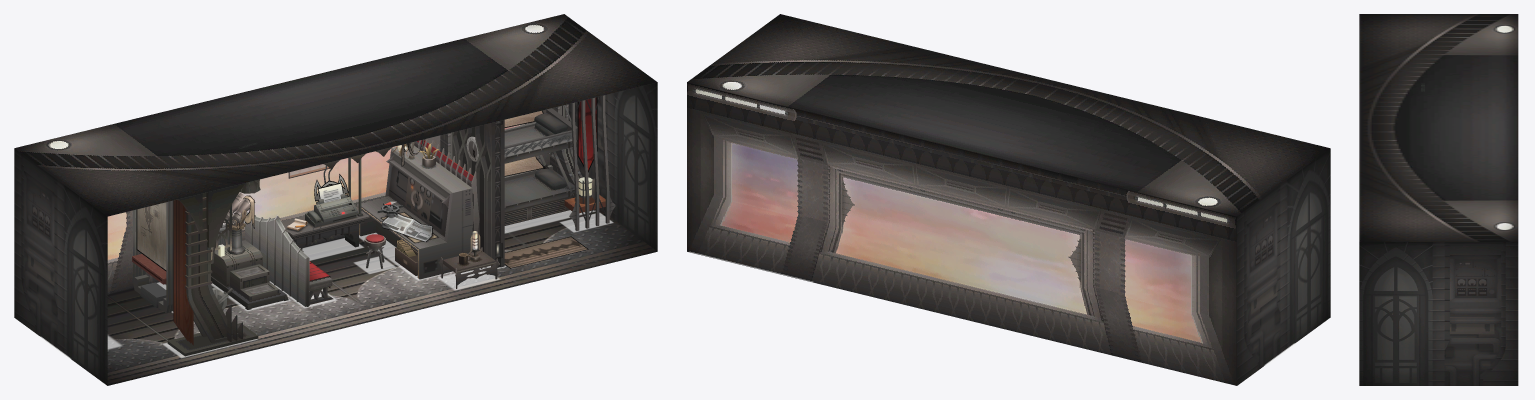
File: Airship.glb
3 views of the same model, side by side, from view 1: azimuth 30°, elevation 25°; view 2: azimuth 150°, elevation 25°; view 3: azimuth 270°, elevation 25° (orthographic). The views are drawn at different scales.
Visible parts, largest first — view 1: ROOM_room, ROOM_floor, furni_Airship_controldesk_01, furni_Airship_pillar_01, furni_Airship_bunkbed_01, furni_Airship_partitionwall_01, furni_Airship_bench_01, furni_Airship_telescope_01, furni_Airship_partitiondesk_01, furni_Airship_faxmachine_01, furni_Airship_catalogstand_01, furni_Airship_catalogstand_02 (+11 smaller); view 2: ROOM_room, ROOM_LDoor; view 3: ROOM_room, ROOM_RDoor.
Part boxes in pixels (box(x1,y1,x2,y2)): ROOM_room: box(14, 14, 657, 385); ROOM_floor: box(107, 209, 657, 385); furni_Airship_controldesk_01: box(359, 138, 479, 279); furni_Airship_pillar_01: box(167, 183, 258, 356); furni_Airship_bunkbed_01: box(440, 104, 595, 225); furni_Airship_partitionwall_01: box(452, 120, 504, 267); furni_Airship_bench_01: box(245, 212, 333, 306); furni_Airship_telescope_01: box(211, 221, 288, 309); furni_Airship_partitiondesk_01: box(564, 95, 615, 230); furni_Airship_faxmachine_01: box(281, 158, 369, 249); furni_Airship_catalogstand_01: box(132, 200, 173, 313); furni_Airship_catalogstand_02: box(136, 202, 166, 271); ROOM_room: box(687, 14, 1330, 385); ROOM_LDoor: box(1297, 251, 1316, 341); ROOM_room: box(1359, 14, 1518, 385); ROOM_RDoor: box(1382, 320, 1415, 385).
Size of the model in its own units: 7.57 by 2.2 by 2.23.
7 materials, 7 textured.
